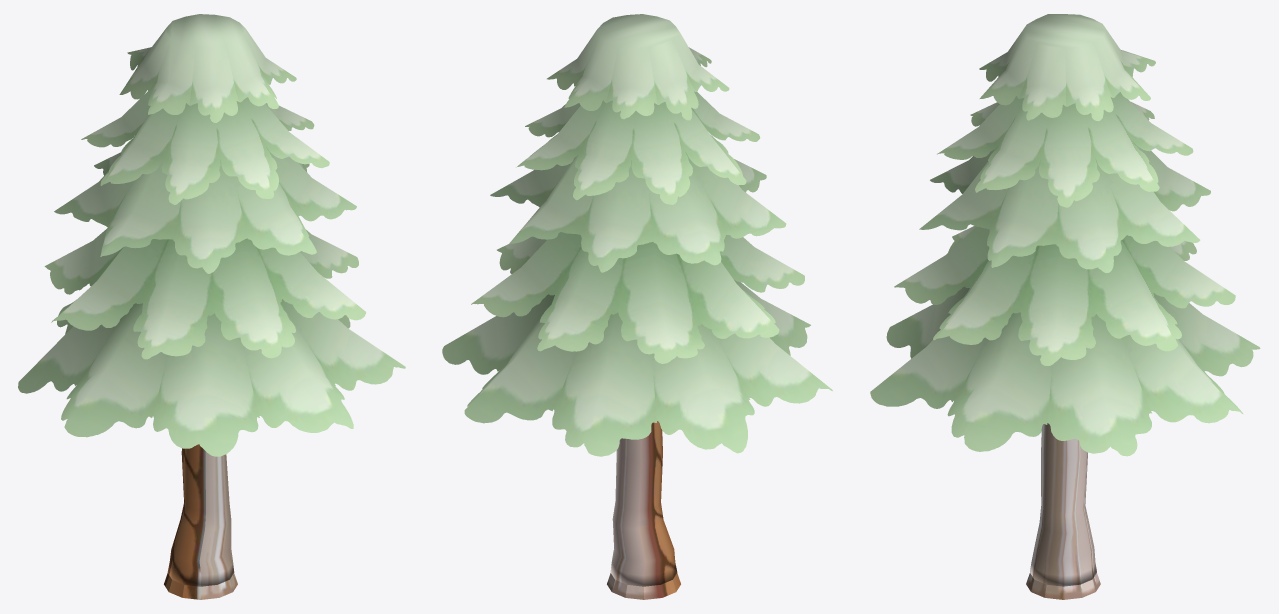
File: TreePineMedium_b.fbx
3 renders of one model, left to right at view 1: azimuth 30°, elevation 25°; view 2: azimuth 150°, elevation 25°; view 3: azimuth 270°, elevation 25°, orthographic.
Parts seen in each view (by area): view 1: TreePineCrown1b, TreePineStumpMediumB; view 2: TreePineCrown1b, TreePineStumpMediumB; view 3: TreePineCrown1b, TreePineStumpMediumB.
Part boxes in pixels (x1,y1,x2,y2): TreePineCrown1b: (18, 14, 405, 586); TreePineStumpMediumB: (164, 573, 237, 599); TreePineCrown1b: (442, 14, 832, 586); TreePineStumpMediumB: (607, 573, 680, 599); TreePineCrown1b: (870, 14, 1260, 586); TreePineStumpMediumB: (1026, 573, 1100, 599).
Size of what is drawn, in the model's own units: 3.82 by 5.86 by 3.82.
